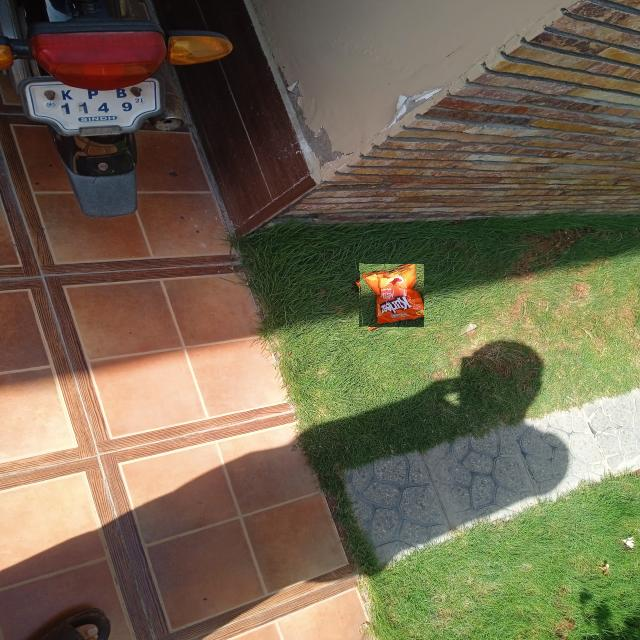Plastic: (358, 264, 424, 328)
